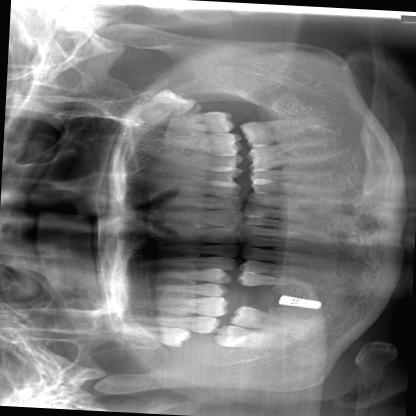ITI: (274, 292, 322, 310)
